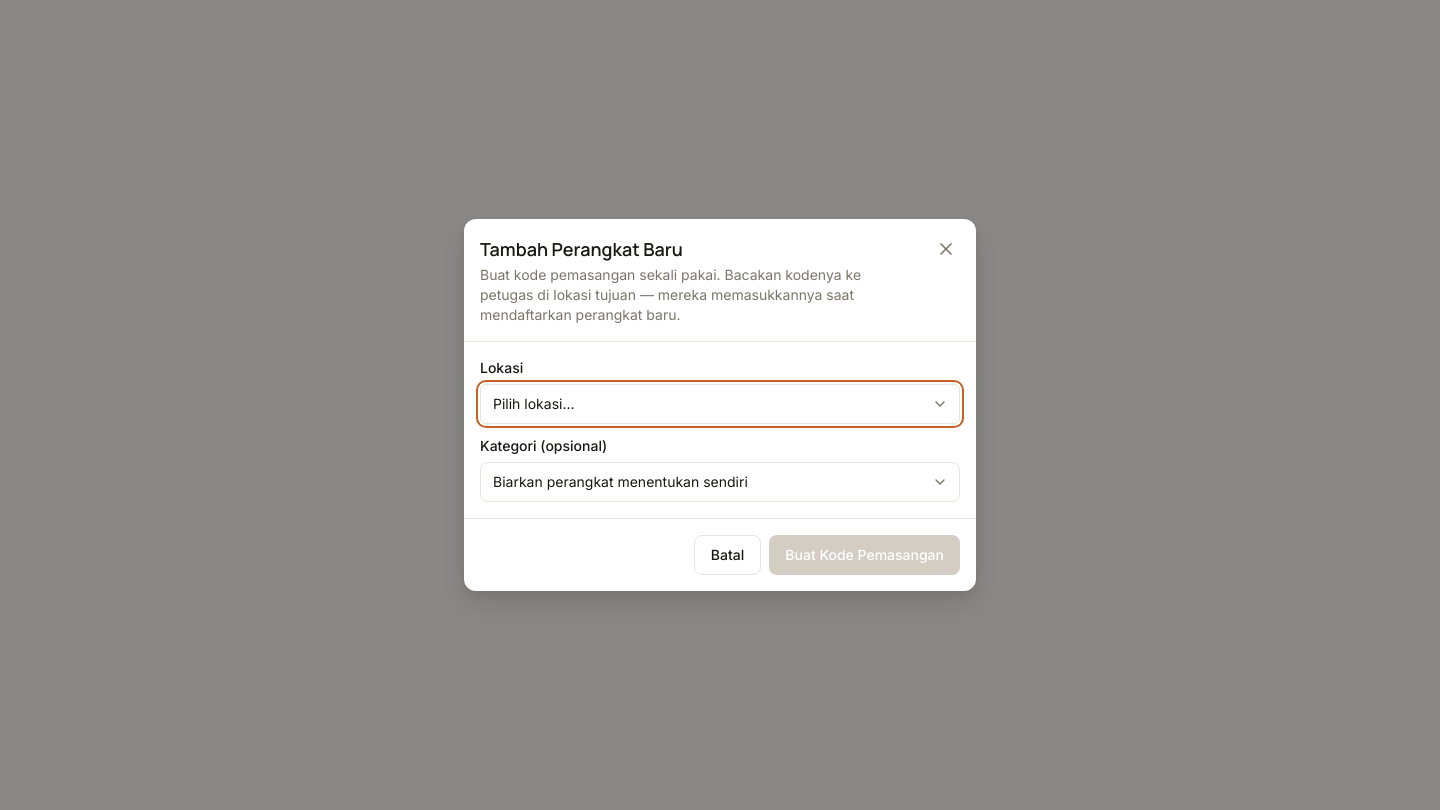
Test: AddDevicePairingModal › mints a token for the chosen location and shows the display code, never the raw token
The width and height of the screenshot is (1440, 810).
Select "Outlet Balikpapan Baru" in the dropdown labelled "Lokasi" at (720,404), box x1=480 y1=384 x2=960 y2=424
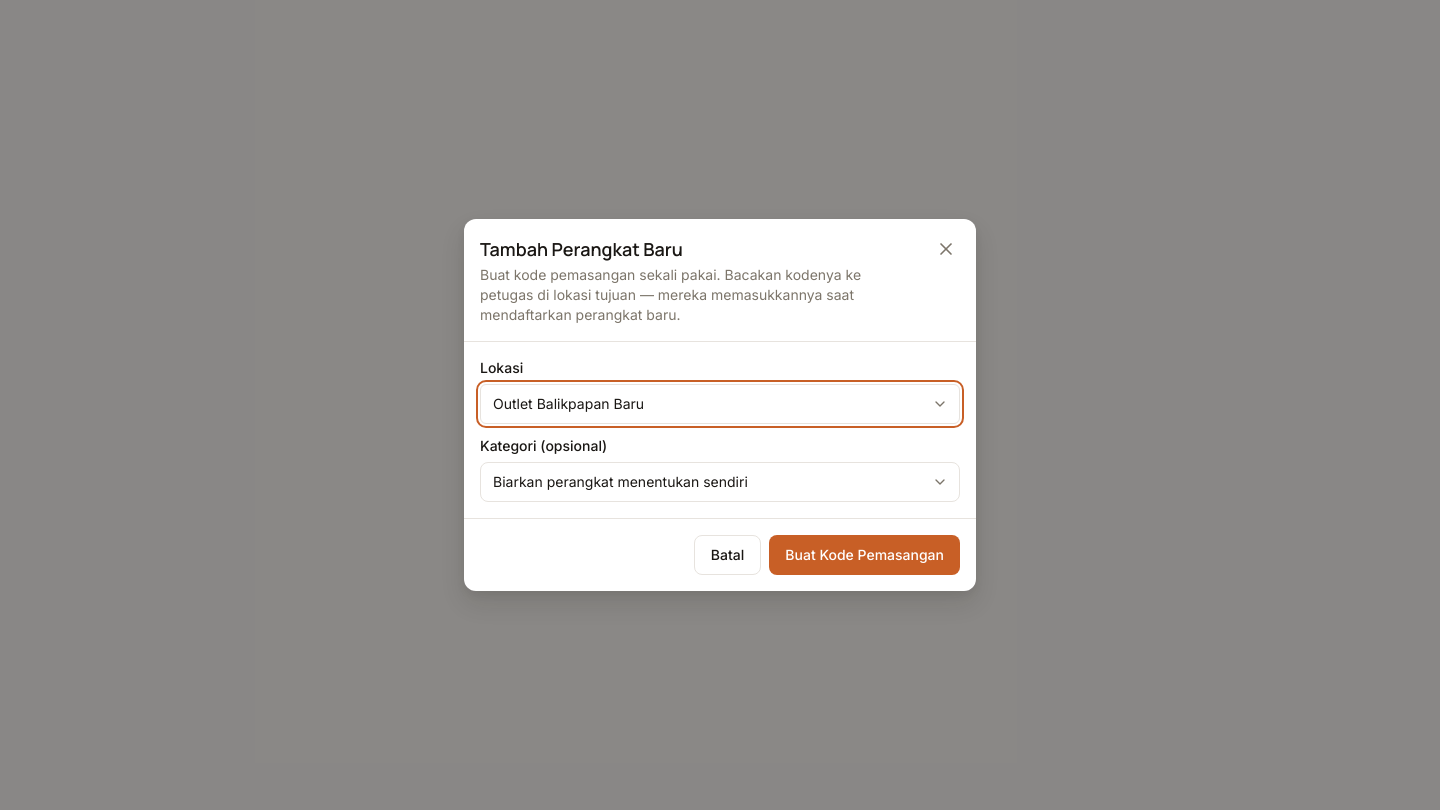
Click the button "Buat Kode Pemasangan" at (865,555), box x1=769 y1=535 x2=960 y2=575
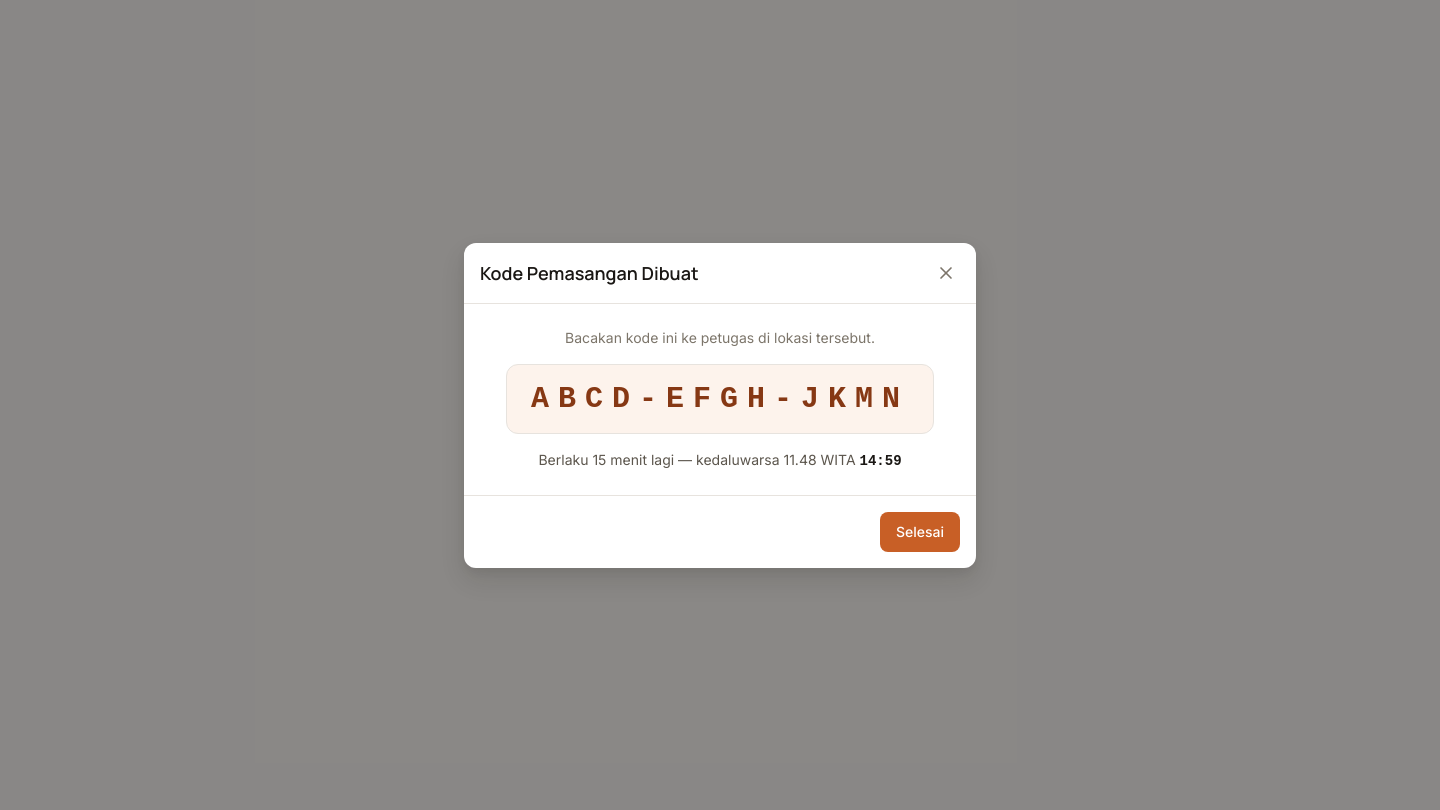
Result: the text "ABCD-EFGH-JKMN" is shown at x1=506 y1=364 x2=934 y2=434
